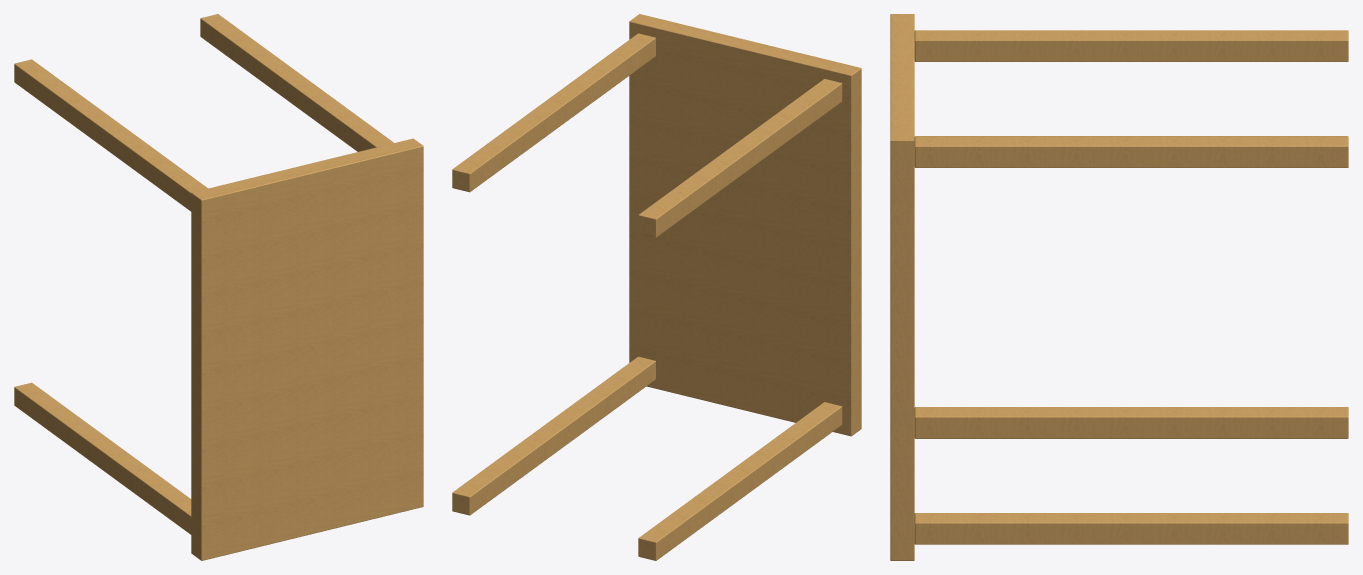
The picture shows the model from 3 angles, left to right: view 1: azimuth 30°, elevation 25°; view 2: azimuth 150°, elevation 25°; view 3: azimuth 270°, elevation 25°; orthographic projection. The views are drawn at different scales.
Parts seen in each view (by area): view 1: arat_standard_table; view 2: arat_standard_table; view 3: arat_standard_table.
Boxes of the visible parts, <box> form: arat_standard_table: <box>14,14,423,560</box>; arat_standard_table: <box>452,14,861,560</box>; arat_standard_table: <box>890,14,1348,560</box>.
Size of the model in its own units: 0.49 by 0.76 by 0.75.
1 material, 1 textured.
